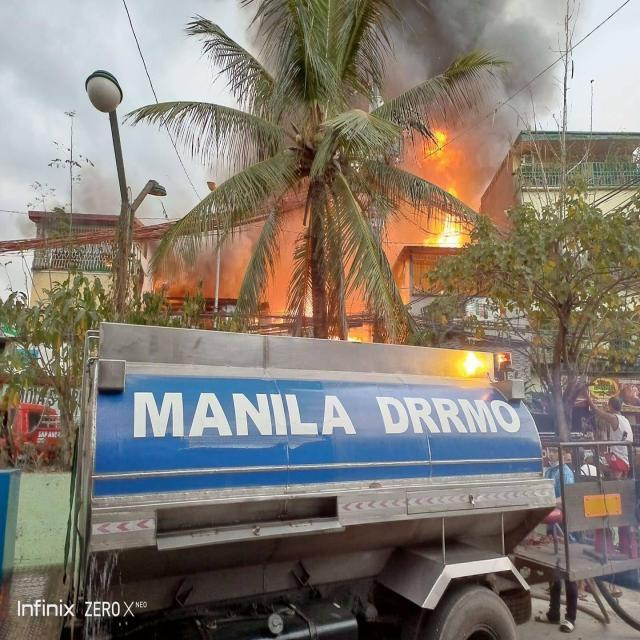Fire: (418, 132, 493, 196), (400, 208, 466, 254)
